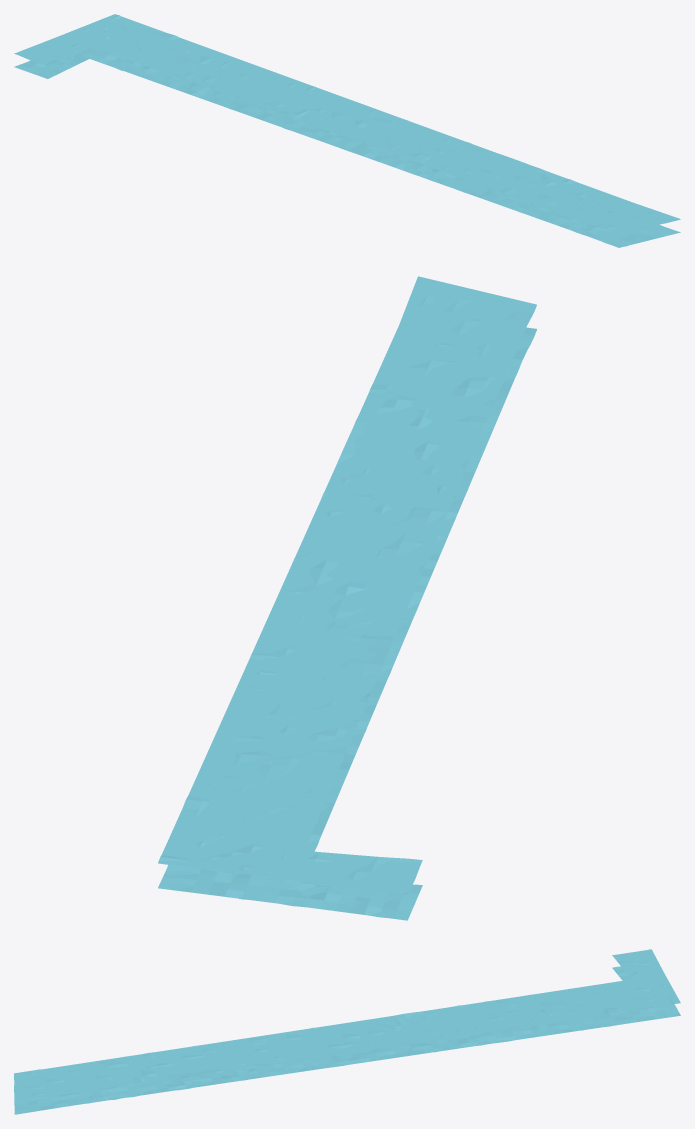
File: Unique 3.fbx
3 views of the same model, one above another, from view 1: azimuth 30°, elevation 25°; view 2: azimuth 150°, elevation 25°; view 3: azimuth 270°, elevation 25° (orthographic). The views are drawn at different scales.
Parts seen in each view (by area): view 1: Unique_003.005, Unique_003.007, Unique_003.013, Unique_003.011, Unique_003.009, Unique_003.004, Unique_003, Unique_003.008, Unique_003.006, Unique_003.003, Unique_003.010, Unique_003.012 (+2 smaller); view 2: Unique_003.005, Unique_003.007, Unique_003.013, Unique_003.011, Unique_003.009, Unique_003, Unique_003.001, Unique_003.004, Unique_003.003, Unique_003.008, Unique_003.006, Unique_003.010 (+2 smaller); view 3: Unique_003.005, Unique_003.007, Unique_003.013, Unique_003.011, Unique_003.009, Unique_003.004, Unique_003.008, Unique_003.006, Unique_003, Unique_003.010, Unique_003.012, Unique_003.003 (+2 smaller).
Part boxes in pixels (x1=…): Unique_003.005: x1=465, y1=160, x2=632, y2=236; Unique_003.007: x1=356, y1=118, x2=505, y2=192; Unique_003.013: x1=90, y1=22, x2=225, y2=91; Unique_003.011: x1=181, y1=54, x2=309, y2=121; Unique_003.009: x1=265, y1=85, x2=399, y2=153; Unique_003.004: x1=465, y1=157, x2=627, y2=236; Unique_003: x1=14, y1=14, x2=135, y2=78; Unique_003.008: x1=262, y1=86, x2=392, y2=153; Unique_003.006: x1=356, y1=119, x2=508, y2=192; Unique_003.003: x1=590, y1=202, x2=680, y2=247; Unique_003.010: x1=176, y1=57, x2=295, y2=119; Unique_003.012: x1=90, y1=27, x2=211, y2=89; Unique_003.005: x1=354, y1=325, x2=522, y2=488; Unique_003.007: x1=291, y1=453, x2=467, y2=599; Unique_003.013: x1=168, y1=747, x2=344, y2=850; Unique_003.011: x1=210, y1=660, x2=380, y2=776; Unique_003.009: x1=249, y1=567, x2=419, y2=694; Unique_003: x1=158, y1=840, x2=422, y2=920; Unique_003.001: x1=158, y1=842, x2=422, y2=920; Unique_003.004: x1=341, y1=326, x2=522, y2=488; Unique_003.003: x1=399, y1=276, x2=536, y2=359; Unique_003.008: x1=250, y1=568, x2=419, y2=697; Unique_003.006: x1=292, y1=453, x2=467, y2=601; Unique_003.010: x1=229, y1=666, x2=379, y2=787; Unique_003.005: x1=49, y1=1046, x2=215, y2=1105; Unique_003.007: x1=194, y1=1026, x2=343, y2=1084; Unique_003.013: x1=527, y1=979, x2=655, y2=1035; Unique_003.011: x1=428, y1=996, x2=548, y2=1049; Unique_003.009: x1=322, y1=1015, x2=449, y2=1065; Unique_003.004: x1=58, y1=1046, x2=215, y2=1105; Unique_003.008: x1=332, y1=1010, x2=453, y2=1065; Unique_003.006: x1=194, y1=1027, x2=343, y2=1083; Unique_003: x1=612, y1=950, x2=680, y2=1019; Unique_003.010: x1=432, y1=994, x2=554, y2=1048; Unique_003.012: x1=532, y1=988, x2=655, y2=1033; Unique_003.003: x1=14, y1=1068, x2=69, y2=1114.
Bounding box in the file's own units: 2431 × 102 × 4482.
